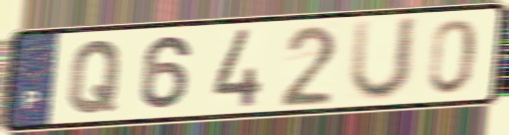0: (426, 17, 482, 96)
2: (280, 21, 341, 110)
4: (211, 26, 265, 111)
6: (139, 33, 197, 113)
Q: (65, 37, 126, 117)
U: (345, 14, 423, 105)
